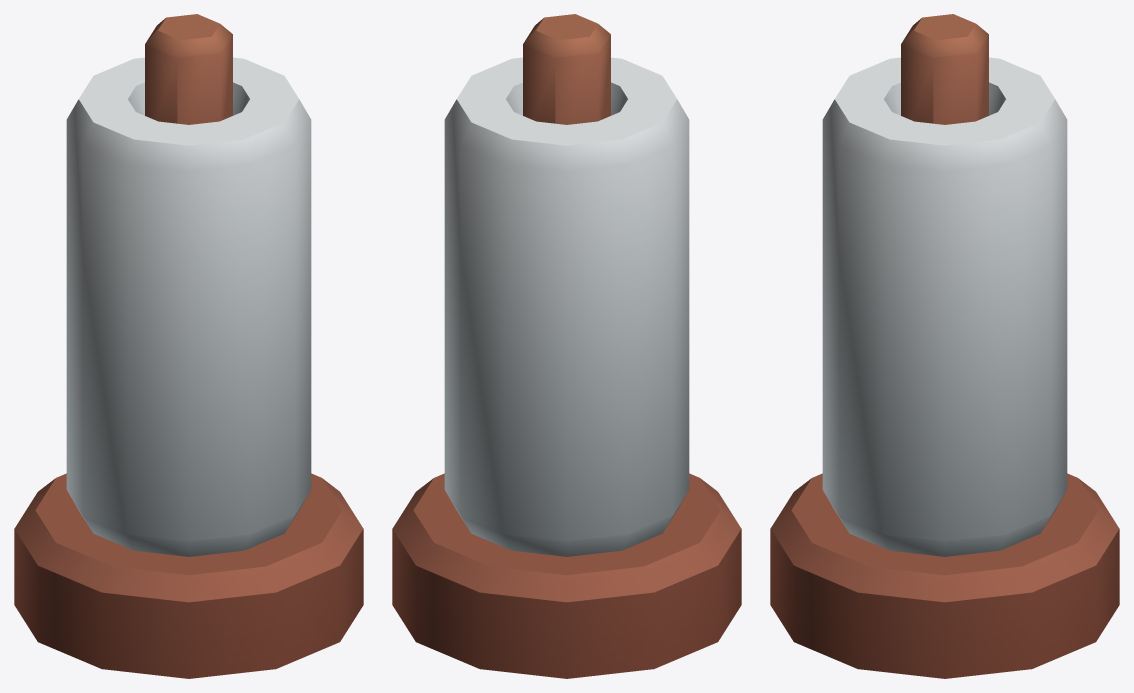
The model's file is papertowel.obj.
3 views of the same model, side by side, from view 1: azimuth 30°, elevation 25°; view 2: azimuth 150°, elevation 25°; view 3: azimuth 270°, elevation 25° (orthographic).
Parts seen in each view (by area): view 1: papertowel_Cylinder.910; view 2: papertowel_Cylinder.910; view 3: papertowel_Cylinder.910.
Part boxes in pixels (left/top/right/bottom): papertowel_Cylinder.910: left=14, top=14, right=363, bottom=678; papertowel_Cylinder.910: left=392, top=14, right=741, bottom=678; papertowel_Cylinder.910: left=770, top=14, right=1119, bottom=678.
Bounding box in the file's own units: 0.5 × 0.9138 × 0.5.
Materials: 1 (1 with a texture image).
